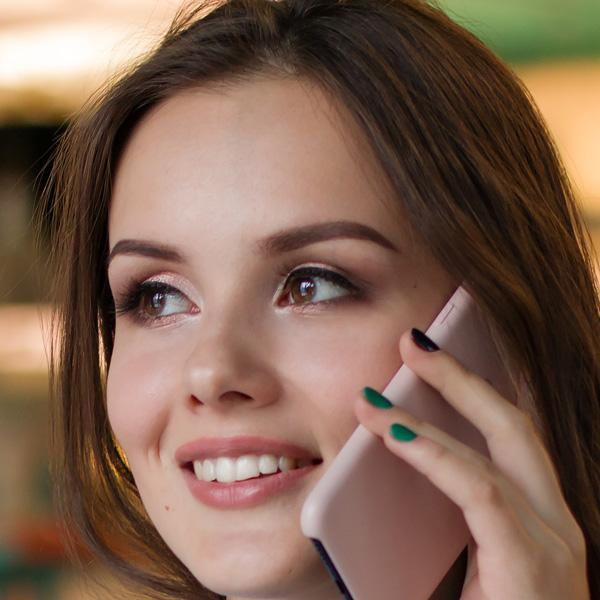Eyes: (262, 257, 372, 321), (114, 265, 209, 335)
